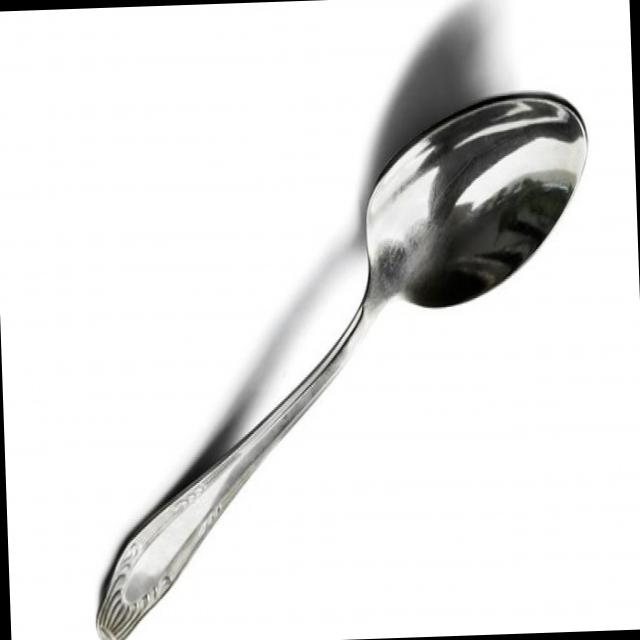spoon: (21, 57, 628, 640)
